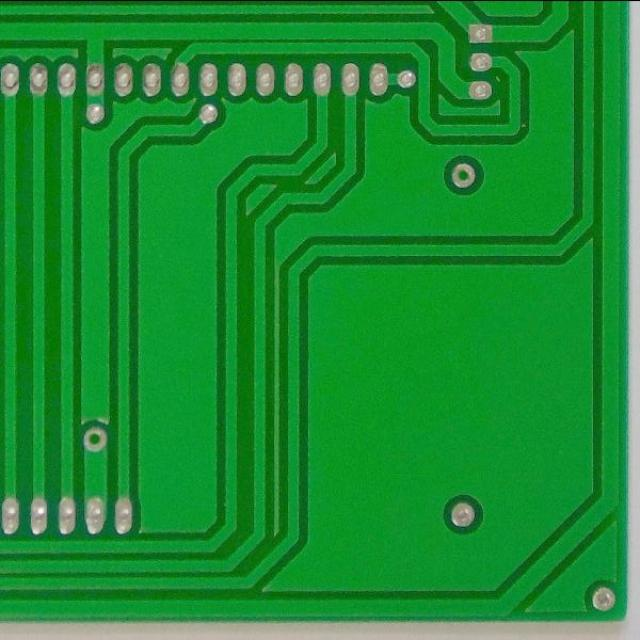Missing_Hole: (80, 424, 111, 454), (448, 161, 479, 190)
